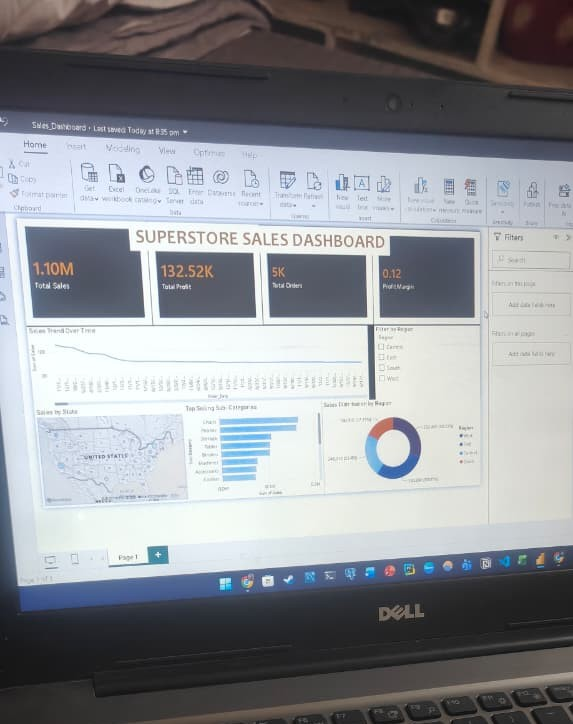

The dashboard page shown, as its layout file describes it:
{"tool":"powerbi","page":{"name":"Page 1","canvas":[1280,720],"ordinal":0},"visuals":[{"type":"cardVisual","fields":{"Data":["Sample - Superstore.Total Sales"]},"box":[0,0,322.9,255.7],"z":0},{"type":"cardVisual","fields":{"Data":["Sample - Superstore.Total Orders"]},"box":[625.7,1.4,321.4,254.3],"z":1000},{"type":"cardVisual","fields":{"Data":["Sample - Superstore.Total Profit"]},"box":[324,0,300,256],"z":2000},{"type":"cardVisual","fields":{"Data":["Sample - Superstore.Profit Margin"]},"box":[948,2,332,254],"z":3000},{"type":"lineChart","title":"Sales Trend Over Time","fields":{"Y":["Sum(Sample - Superstore.Sales)"],"Category":["Sample - Superstore.Order_Date"]},"box":[0,258.6,928.6,202.9],"z":4000},{"type":"map","title":"Sales by State","fields":{"Category":["Sample - Superstore.State"],"Size":["Sum(Sample - Superstore.Sales)"]},"box":[0,462,392,258],"z":5000},{"type":"clusteredBarChart","title":"Top Selling Sub-Categories","fields":{"Category":["Sample - Superstore.Sub-Category"],"Y":["Sum(Sample - Superstore.Sales)"]},"box":[392,462,394,258],"z":6000},{"type":"donutChart","title":"Sales Distribution by Region","fields":{"Category":["Sample - Superstore.Region"],"Y":["Sum(Sample - Superstore.Sales)"]},"box":[786,462,494,258],"z":7000},{"type":"slicer","title":"Filter by Region","fields":{"Values":["Sample - Superstore.Region"]},"box":[948.6,258.6,331.4,202.9],"z":8000},{"type":"textbox","box":[276.7,1.7,725,70],"z":9000}]}

Visuals, with their boxes on the page's 1280x720 design canvas (x1, y1, x2, y2). These are canvas units, not pixel positions in the 573x724 screenshot, which may show the page scaled, cropped or inside an application window:
cardVisual - Sample - Superstore.Total Sales: <bbox>0, 0, 323, 256</bbox>
cardVisual - Sample - Superstore.Total Orders: <bbox>626, 1, 947, 256</bbox>
cardVisual - Sample - Superstore.Total Profit: <bbox>324, 0, 624, 256</bbox>
cardVisual - Sample - Superstore.Profit Margin: <bbox>948, 2, 1280, 256</bbox>
"Sales Trend Over Time" lineChart: <bbox>0, 259, 929, 462</bbox>
"Sales by State" map: <bbox>0, 462, 392, 720</bbox>
"Top Selling Sub-Categories" clusteredBarChart: <bbox>392, 462, 786, 720</bbox>
"Sales Distribution by Region" donutChart: <bbox>786, 462, 1280, 720</bbox>
"Filter by Region" slicer: <bbox>949, 259, 1280, 462</bbox>
textbox: <bbox>277, 2, 1002, 72</bbox>
